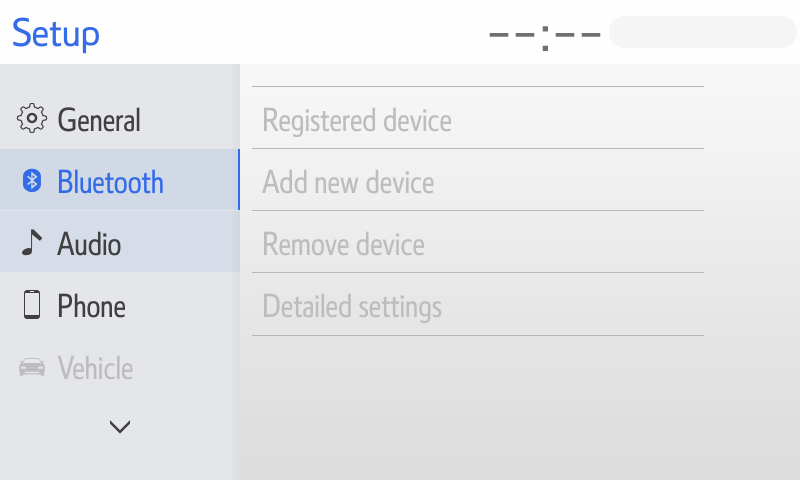touchPart: (12, 93, 156, 139), (18, 285, 146, 330), (18, 226, 137, 263), (104, 409, 135, 435)
untouchPart: (250, 81, 710, 154), (252, 143, 710, 216), (250, 207, 710, 279), (250, 269, 709, 341), (1, 147, 241, 210), (474, 12, 796, 52), (11, 15, 110, 55), (17, 354, 136, 385)
